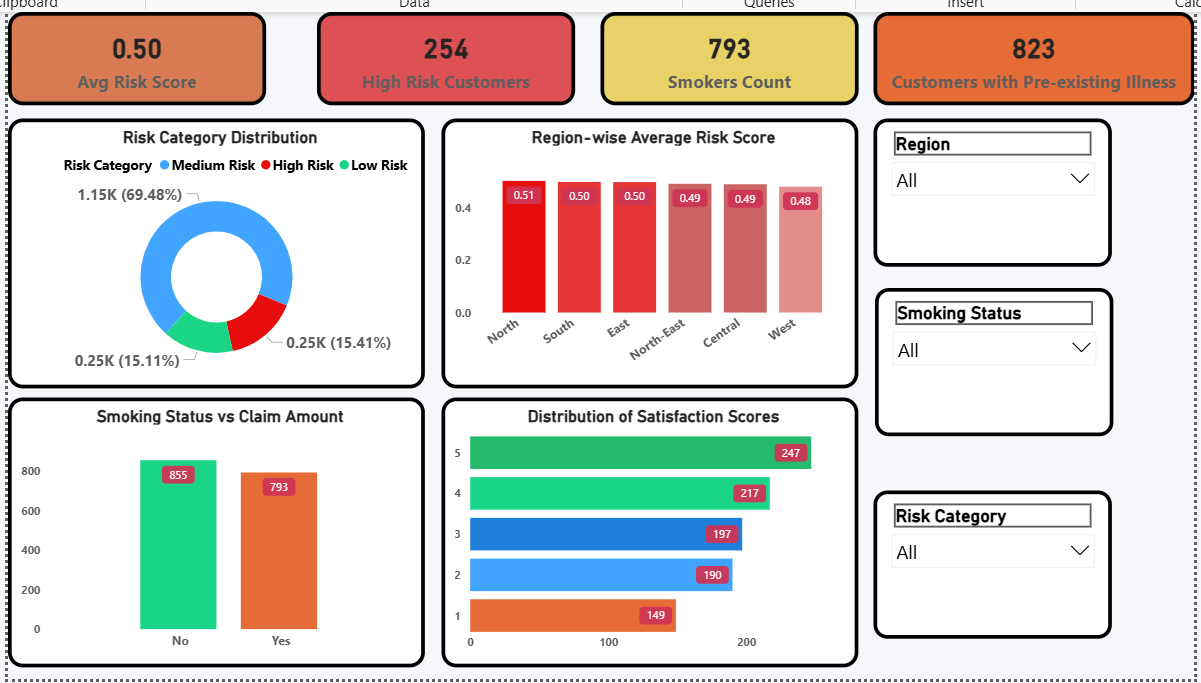

The dashboard page shown, as its layout file describes it:
{"tool":"powerbi","page":{"name":"Customer Risk Dashboard","canvas":[1280,720],"ordinal":2},"visuals":[{"type":"card","fields":{"Values":["Avg(aegislifedb customer_master.risk_score)"]},"box":[0,0,278.5,100.4],"z":0},{"type":"card","fields":{"Values":["aegislifedb customer_master.High Risk Customers"]},"box":[333.6,0,278.5,100.4],"z":1000},{"type":"card","fields":{"Values":["aegislifedb customer_master.Smokers Count"]},"box":[639.6,0,278.5,100.4],"z":2000},{"type":"card","fields":{"Values":["aegislifedb customer_master.Customers with Pre-existing Illness"]},"box":[934.3,0,346.5,100.4],"z":3000},{"type":"donutChart","title":"Risk Category Distribution","fields":{"Category":["aegislifedb customer_master.Risk Category"],"Y":["CountNonNull(aegislifedb customer_master.customer_id)"]},"box":[0,115,450.1,291.5],"z":4000},{"type":"clusteredColumnChart","title":"Region-wise Average Risk Score","fields":{"Category":["aegislifedb customer_master.region"],"Y":["Avg(aegislifedb customer_master.risk_score)"]},"box":[468,115,450.1,291.5],"z":5000},{"type":"clusteredColumnChart","title":"Smoking Status vs Claim Amount","fields":{"Category":["aegislifedb customer_master.smoking_status"],"Y":["CountNonNull(aegislifedb customer_master.customer_id)"]},"box":[0,416,450,291],"z":6000},{"type":"clusteredBarChart","title":"Distribution of Satisfaction Scores","fields":{"Category":["aegislifedb customer_feedback.satisfaction_score"],"Y":["CountNonNull(aegislifedb customer_feedback.feedback_id)"]},"box":[468,416,450,291],"z":7000},{"type":"slicer","fields":{"Values":["aegislifedb customer_master.region"]},"box":[934.3,115,257.5,160.3],"z":8000},{"type":"slicer","fields":{"Values":["aegislifedb customer_master.smoking_status"]},"box":[935.9,297.9,257.5,160.3],"z":9000},{"type":"slicer","fields":{"Values":["aegislifedb customer_master.Risk Category"]},"box":[934.3,516.5,257.5,160.3],"z":10000}]}

Visuals, with their boxes in screenshot pixels (x1, y1, x2, y2):
card - Avg(aegislifedb customer_master.risk_score): x1=3 y1=9 x2=261 y2=102
card - aegislifedb customer_master.High Risk Customers: x1=312 y1=9 x2=570 y2=102
card - aegislifedb customer_master.Smokers Count: x1=595 y1=9 x2=853 y2=102
card - aegislifedb customer_master.Customers with Pre-existing Illness: x1=868 y1=9 x2=1188 y2=102
"Risk Category Distribution" donutChart: x1=3 y1=116 x2=420 y2=386
"Region-wise Average Risk Score" clusteredColumnChart: x1=436 y1=116 x2=853 y2=386
"Smoking Status vs Claim Amount" clusteredColumnChart: x1=3 y1=394 x2=420 y2=664
"Distribution of Satisfaction Scores" clusteredBarChart: x1=436 y1=394 x2=853 y2=664
slicer - aegislifedb customer_master.region: x1=868 y1=116 x2=1106 y2=264
slicer - aegislifedb customer_master.smoking_status: x1=869 y1=285 x2=1107 y2=433
slicer - aegislifedb customer_master.Risk Category: x1=868 y1=487 x2=1106 y2=636
